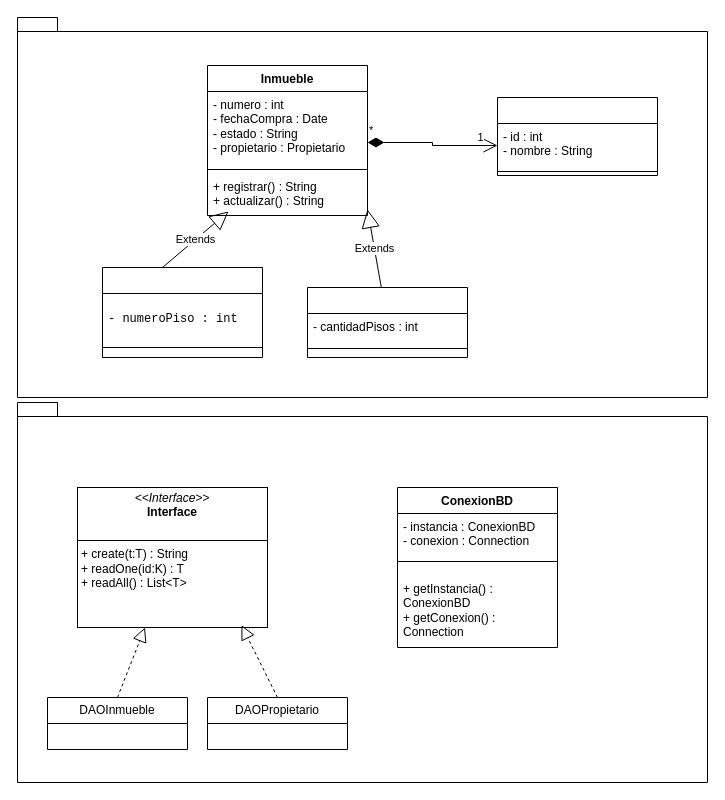
The diagram is 725 pixels wide and 800 high, and some of its shapes have lost their labels. The shapes that lost their labels are listed below. From the top down, each one's box as (x1, y1, x2, y2) in pixels, then its label:
(496, 96, 658, 176): Propietario
(102, 266, 262, 358): Apartamento
(306, 286, 468, 358): Casa
